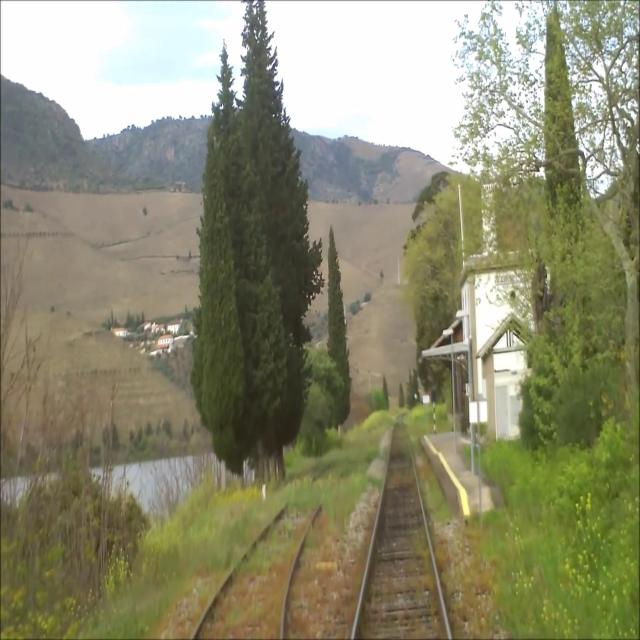rail-track: (196, 460, 343, 639), (355, 418, 447, 639)
